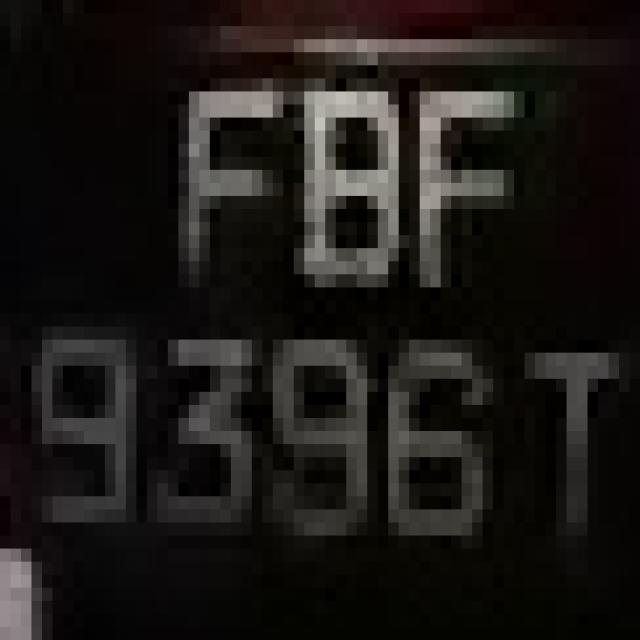3: (115, 287, 273, 562)
6: (367, 326, 483, 574)
9: (21, 301, 147, 548), (252, 340, 378, 548)
B: (294, 39, 409, 314)
F: (409, 52, 535, 300), (168, 52, 283, 288)
T: (514, 340, 619, 548)
